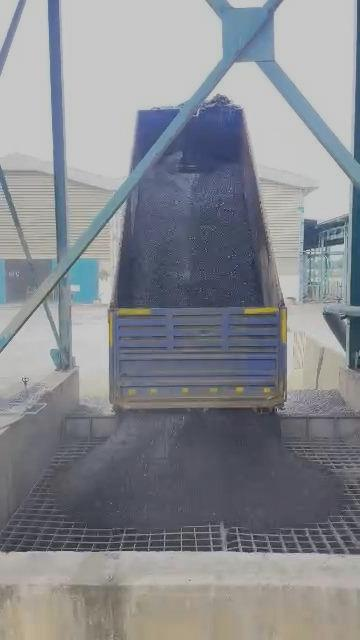gravel: (54, 410, 343, 532), (132, 153, 262, 307), (280, 391, 357, 415)
